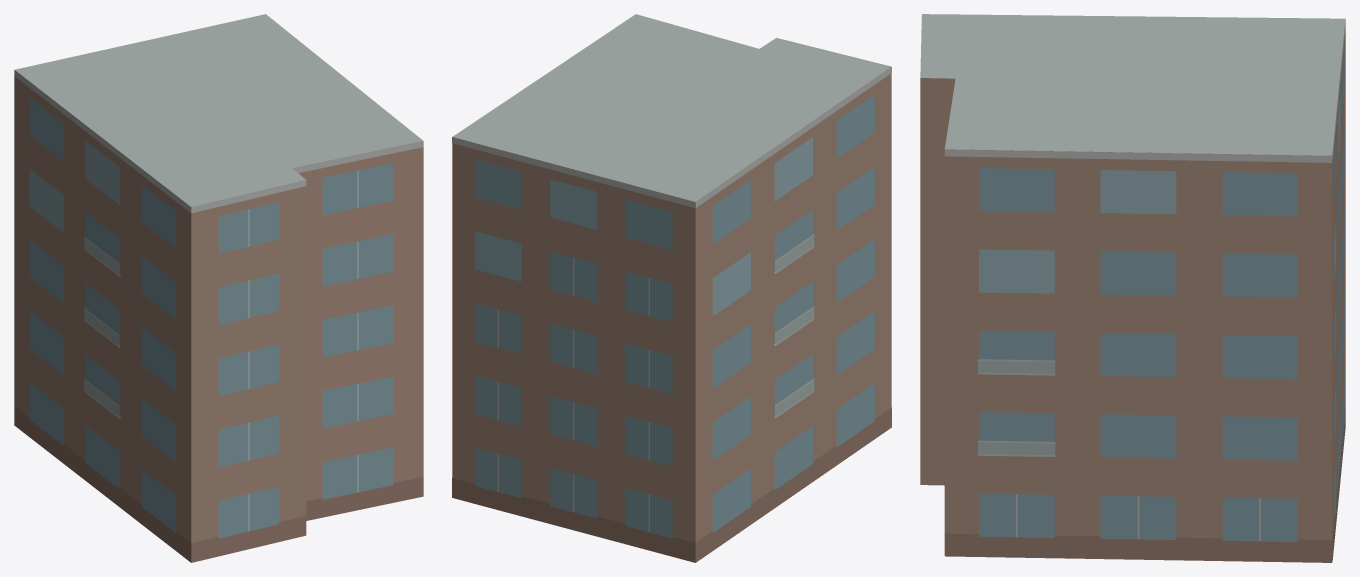
The model's file is survey-upis-32719669.glb.
3 views of the same model, side by side, from view 1: azimuth 30°, elevation 25°; view 2: azimuth 150°, elevation 25°; view 3: azimuth 270°, elevation 25° (orthographic). The views are drawn at different scales.
Visible parts, largest first — view 1: survey-upis-32719669.tmp; view 2: survey-upis-32719669.tmp; view 3: survey-upis-32719669.tmp.
Part boxes in pixels (x1,y1,x2,y2): survey-upis-32719669.tmp: (14, 14, 423, 562); survey-upis-32719669.tmp: (452, 14, 891, 562); survey-upis-32719669.tmp: (920, 14, 1345, 562).
Bounding box in the file's own units: 10.46 × 13.99 × 13.26.
